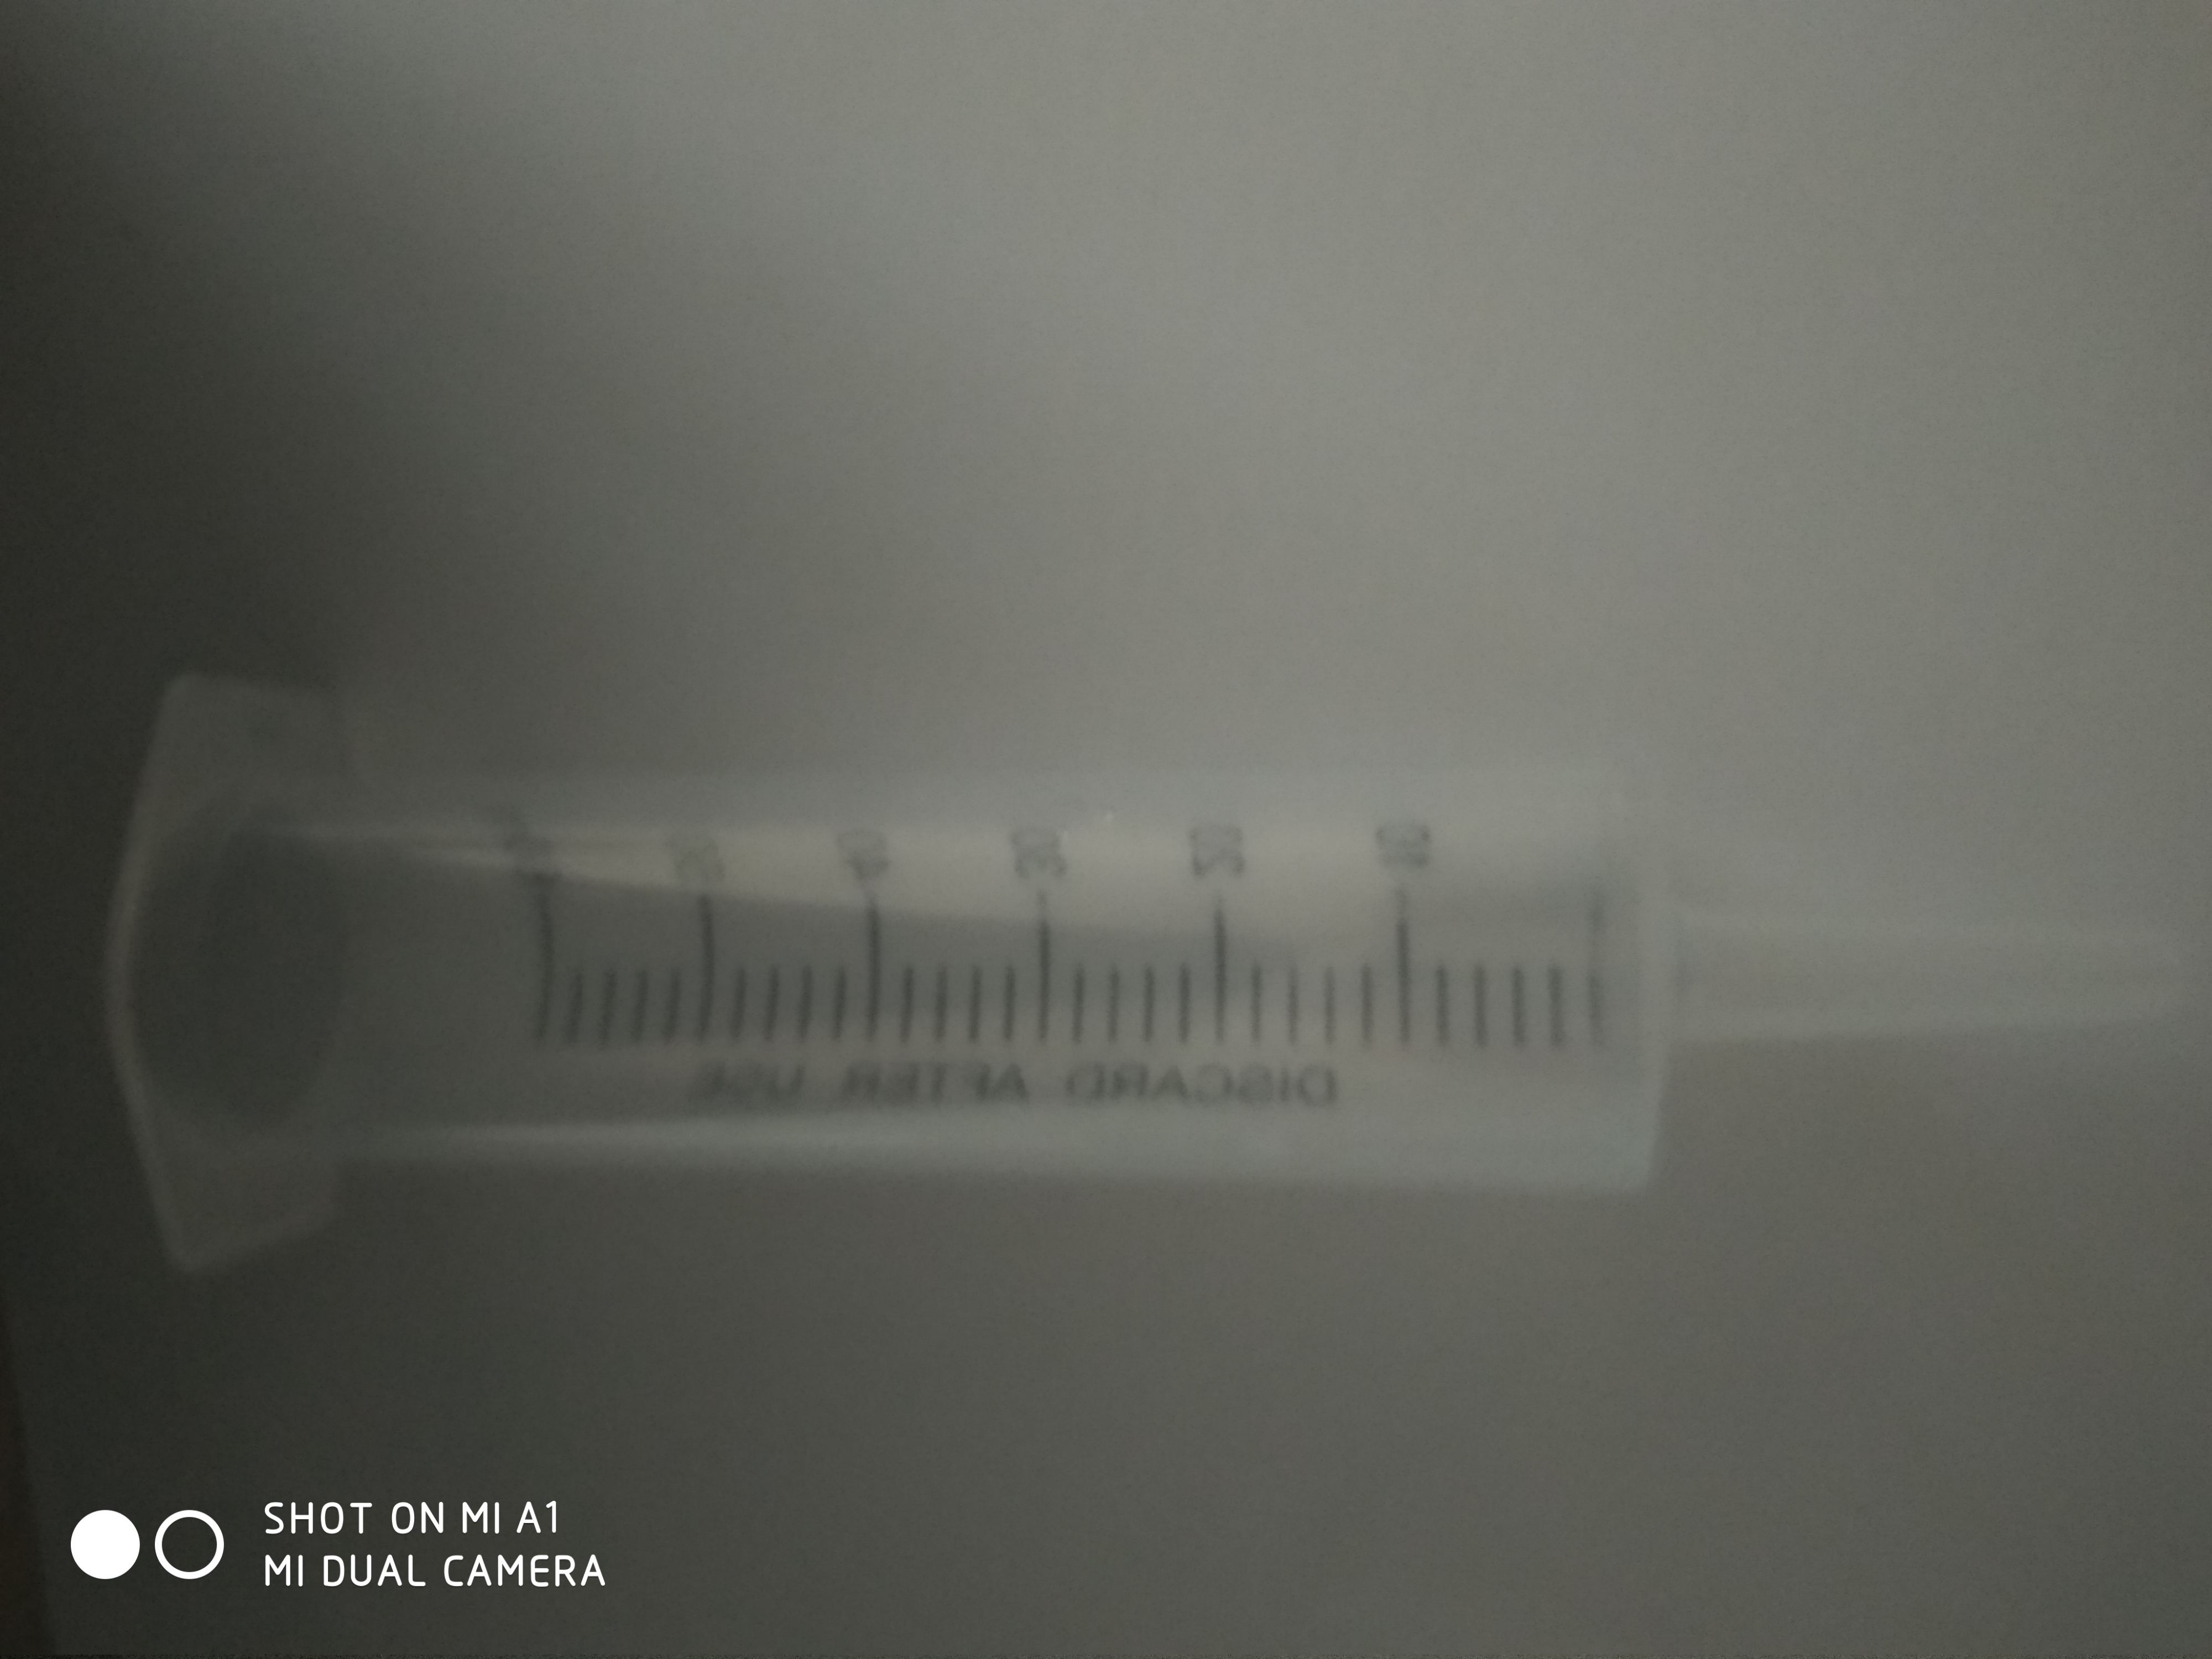syringe: (85, 660, 2205, 1276)
